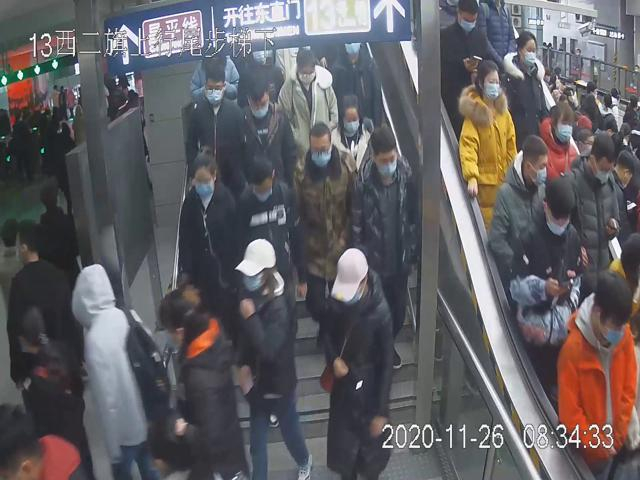person: (234, 234, 314, 480), (319, 243, 396, 480), (351, 123, 418, 372), (288, 120, 358, 325), (232, 148, 308, 330), (506, 172, 582, 354), (455, 55, 516, 236), (178, 144, 236, 326), (486, 131, 549, 268), (276, 40, 337, 155), (183, 60, 242, 172), (237, 69, 288, 186), (501, 28, 546, 145), (328, 92, 373, 175)
